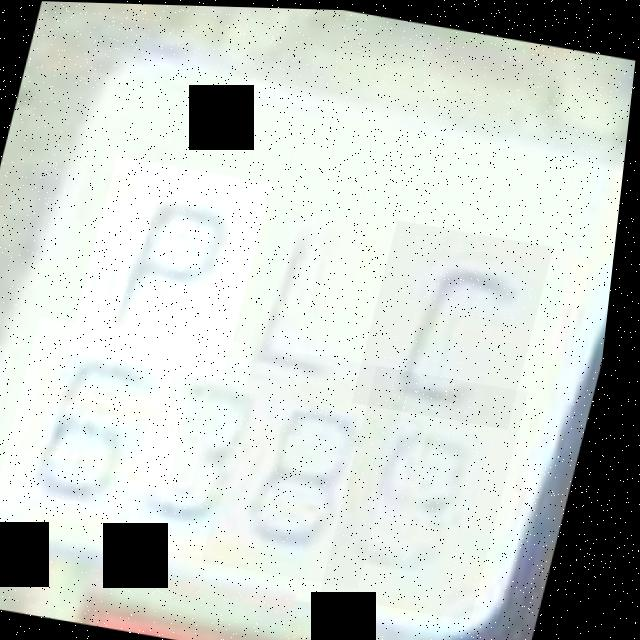3: (104, 324, 317, 565)
6: (0, 316, 213, 549)
8: (213, 343, 423, 587)
9: (331, 363, 539, 618)
O: (359, 217, 561, 426)
P: (74, 155, 279, 379)
